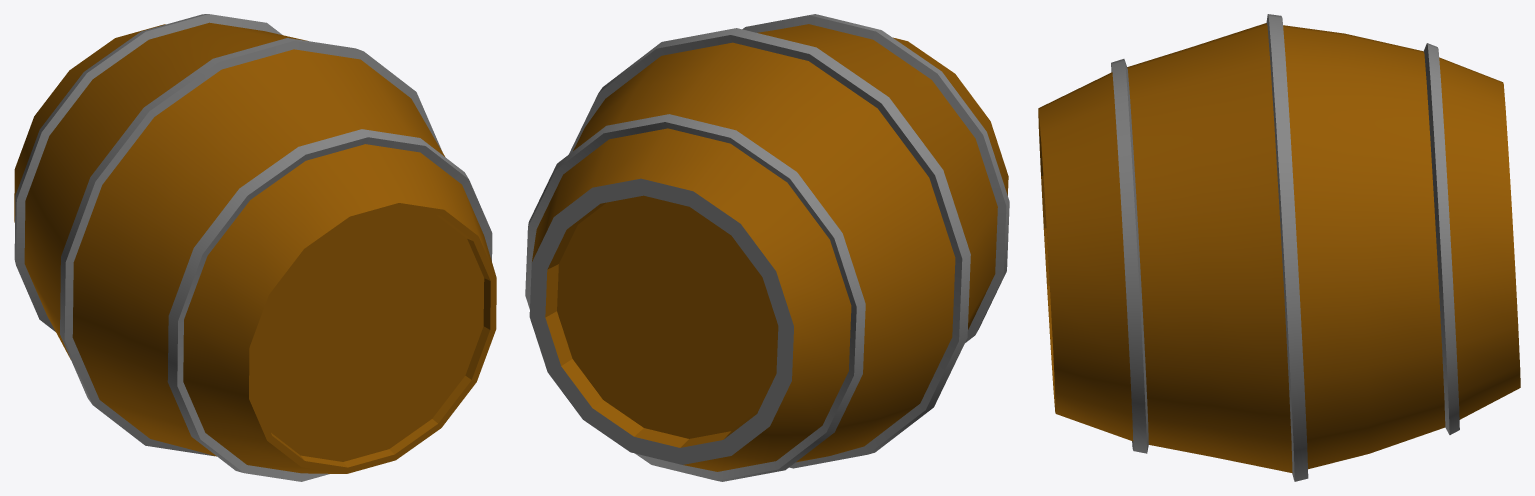
Rendered from barrelanim.fbx.
The picture shows the model from 3 angles, left to right: view 1: azimuth 30°, elevation 25°; view 2: azimuth 150°, elevation 25°; view 3: azimuth 270°, elevation 25°; orthographic projection. The views are drawn at different scales.
Parts seen in each view (by area): view 1: pCylinder1; view 2: pCylinder1; view 3: pCylinder1.
Part boxes in pixels (left/top/right/bottom): pCylinder1: left=14, top=14, right=496, bottom=481; pCylinder1: left=525, top=14, right=1009, bottom=481; pCylinder1: left=1038, top=14, right=1520, bottom=481.
Bounding box in the file's own units: 3.01 × 3.01 × 3.11.
